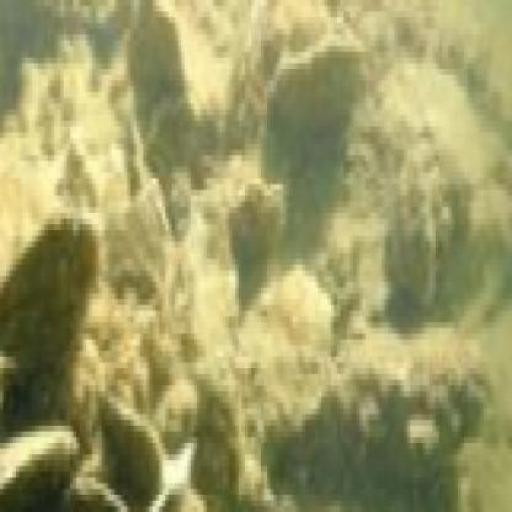Oyster-Closed: (1, 224, 98, 433), (263, 44, 370, 155), (1, 426, 79, 512)
Oyster-Open: (63, 411, 164, 512)
